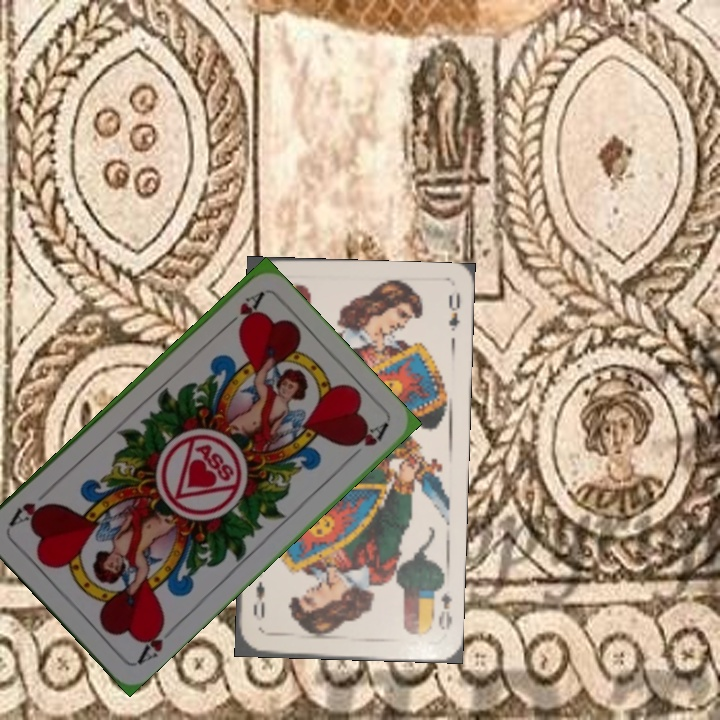EO: (434, 588, 455, 633)
HA: (217, 288, 266, 333), (133, 616, 169, 667)
